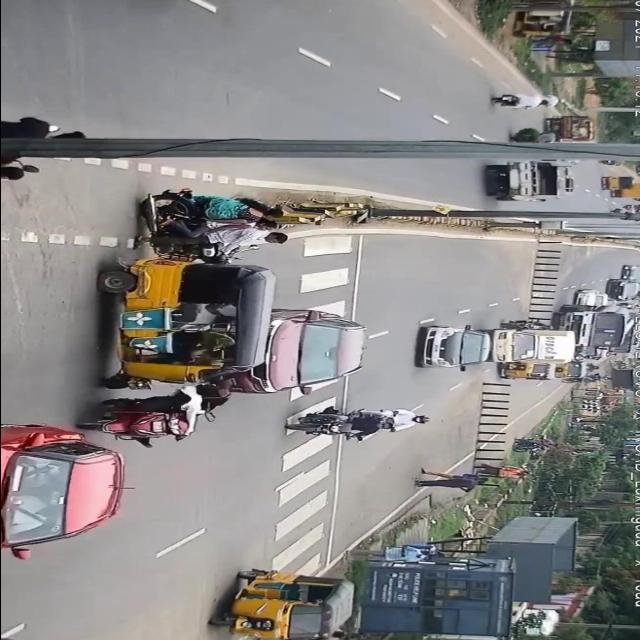accident: (62, 252, 282, 452)
non_accident: (409, 289, 631, 384), (601, 259, 640, 304), (596, 174, 640, 204)
